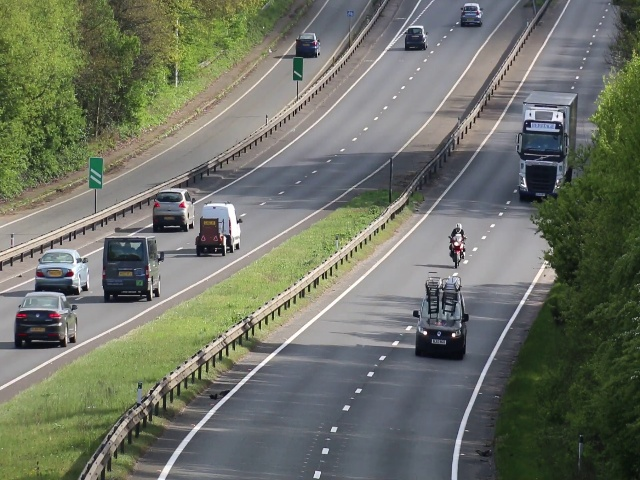car: (517, 92, 575, 202), (100, 236, 164, 301), (15, 291, 76, 347), (417, 301, 470, 354), (34, 251, 92, 293), (199, 205, 241, 253), (150, 189, 194, 231), (295, 31, 319, 59), (403, 24, 427, 50), (459, 1, 483, 27)
